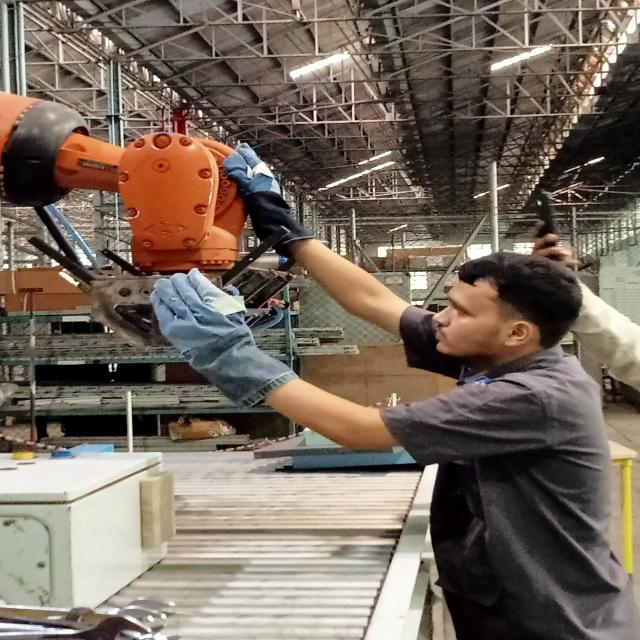Gloves-Detection: (136, 271, 294, 406), (216, 144, 319, 255)
